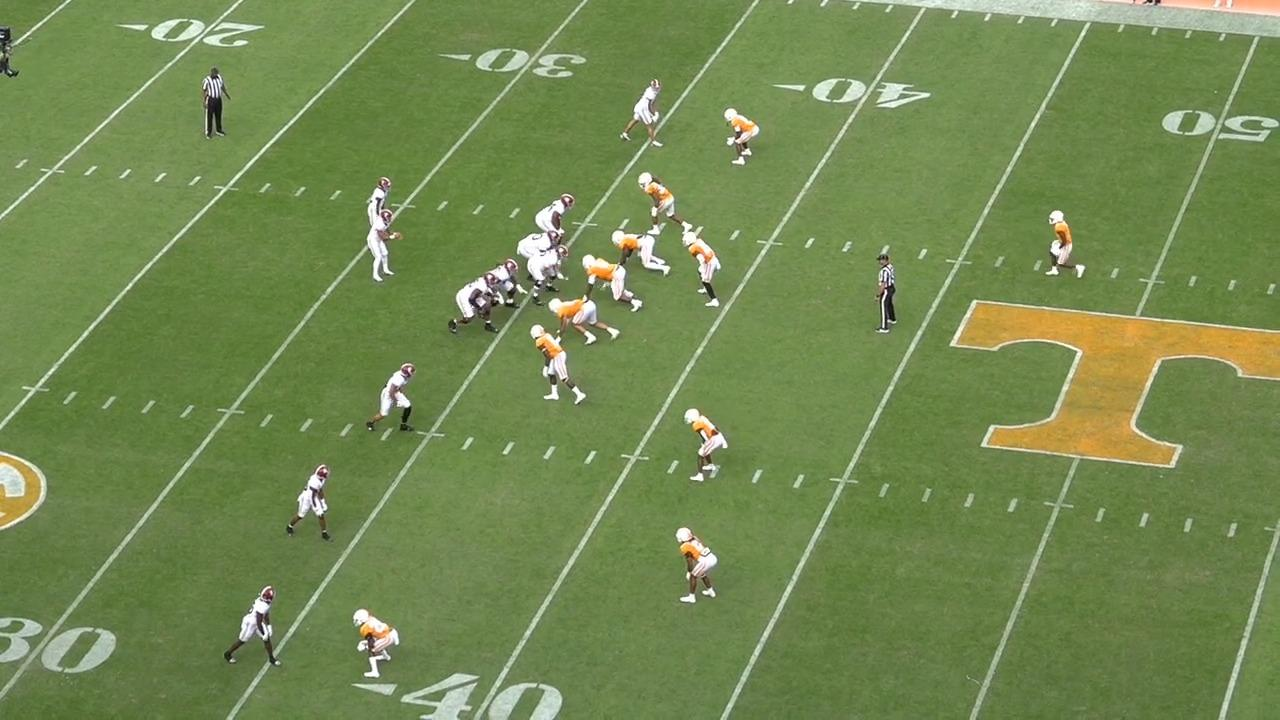player: (224, 585, 289, 675), (529, 324, 589, 410), (285, 461, 337, 546), (364, 360, 422, 436), (349, 602, 400, 681), (578, 251, 643, 312), (639, 166, 697, 234), (678, 526, 724, 610), (619, 77, 667, 155), (549, 300, 622, 351), (684, 406, 730, 486), (449, 273, 503, 338), (682, 228, 724, 310), (615, 229, 677, 279), (1047, 211, 1088, 284), (718, 104, 758, 171), (367, 207, 402, 283), (524, 247, 569, 304), (482, 257, 523, 311), (366, 177, 393, 253), (521, 227, 573, 263), (532, 192, 573, 237)
ref: (869, 253, 898, 343), (201, 64, 232, 141)
